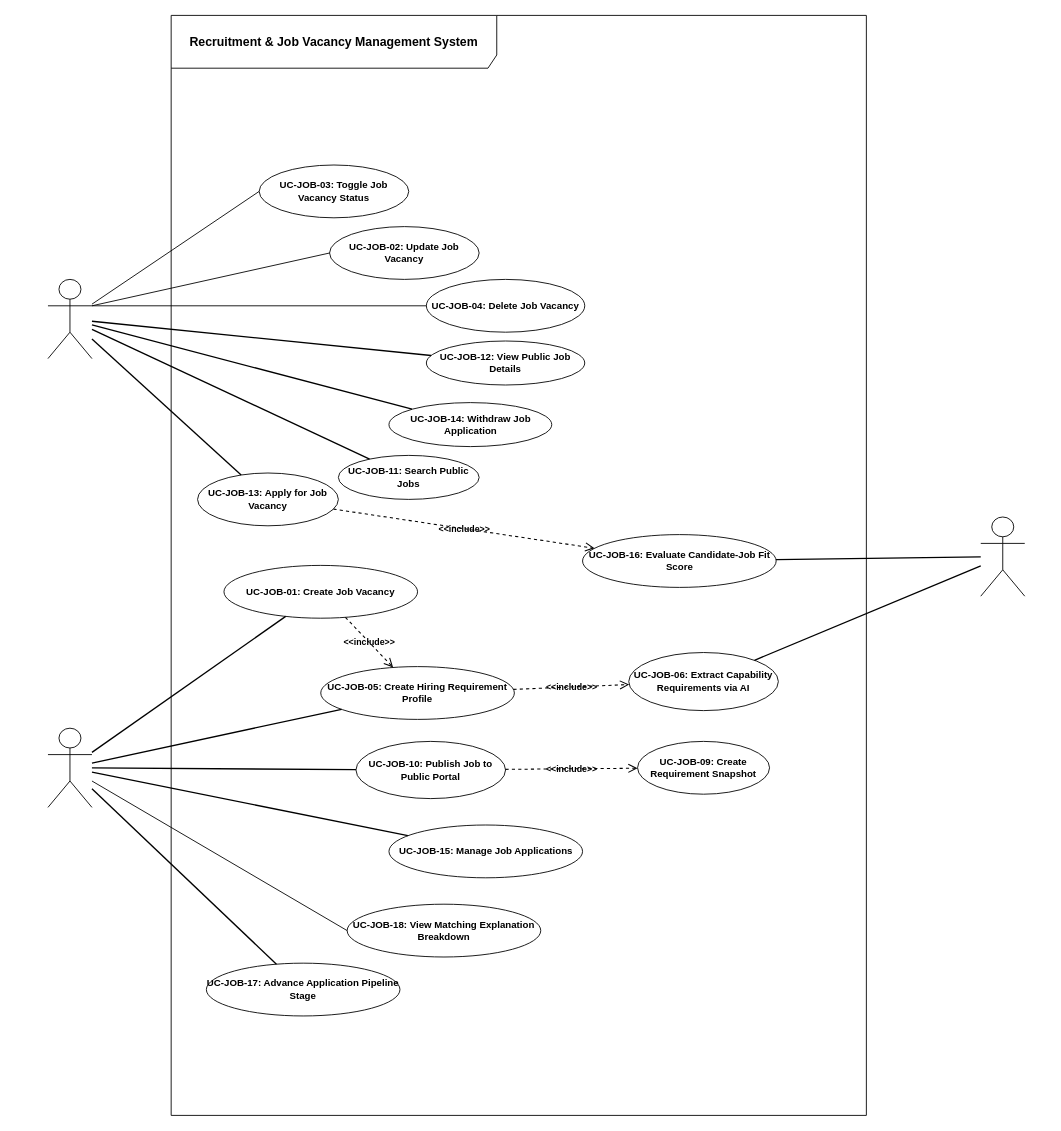
The diagram is 1061 pixels wide and 1131 high, and some of its shapes have lost their labels. The box of each missing label's shape, as (x1, y1, x2, y2) in pixels:
Candidate: (47, 279, 92, 359)
CVerify.AI Engine: (980, 516, 1025, 596)
Recruiter / Org Admin: (47, 727, 92, 807)
